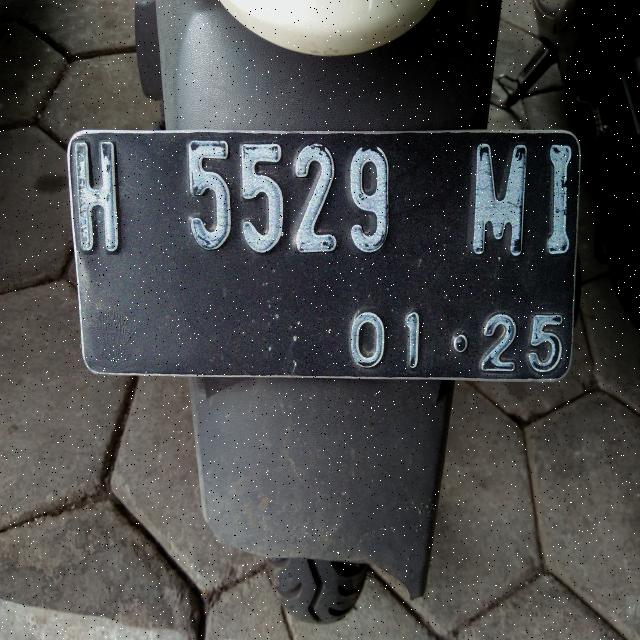plate: (69, 132, 579, 379)
